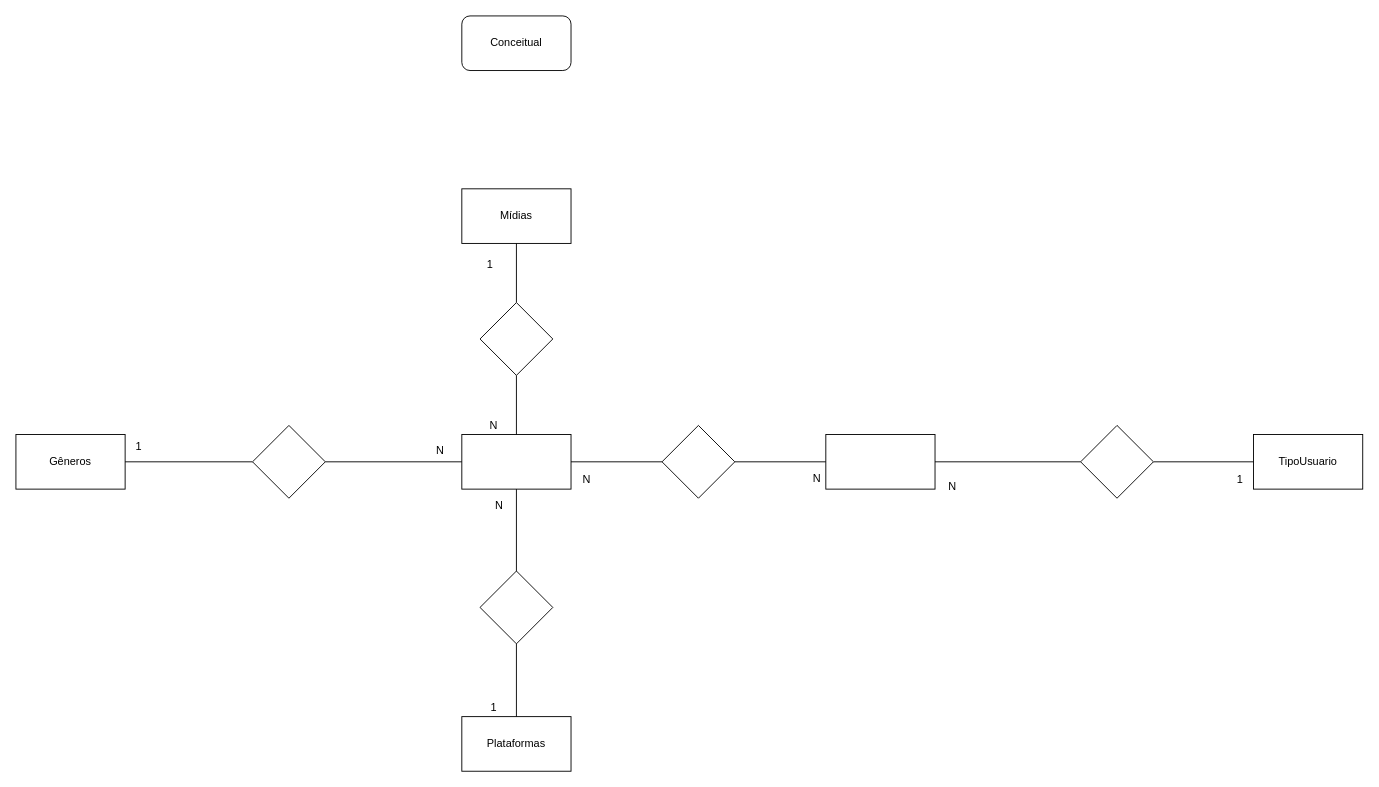
Some shapes in this 1379 by 787 pixel diagram are drawn without their labels. The centre of each missing label's shape, as x and y in pixels:
Cadastros: point 880,461
Novidades: point 516,461
